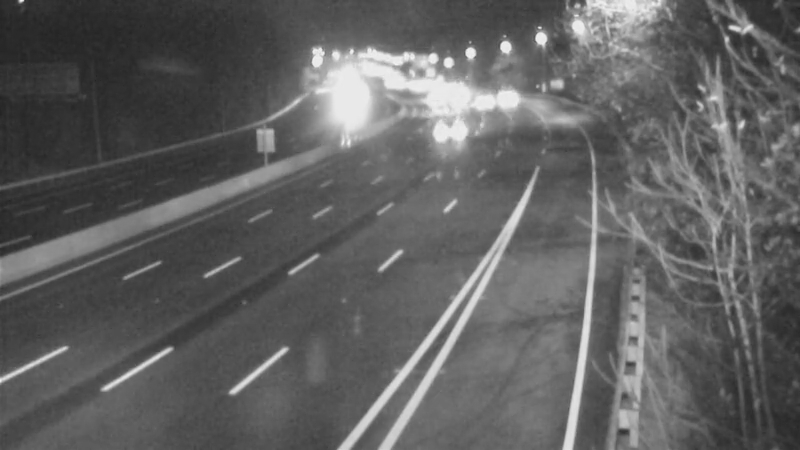vehicle: (480, 75, 530, 125), (407, 72, 457, 122), (452, 81, 502, 131), (414, 82, 464, 132), (423, 105, 473, 155)
